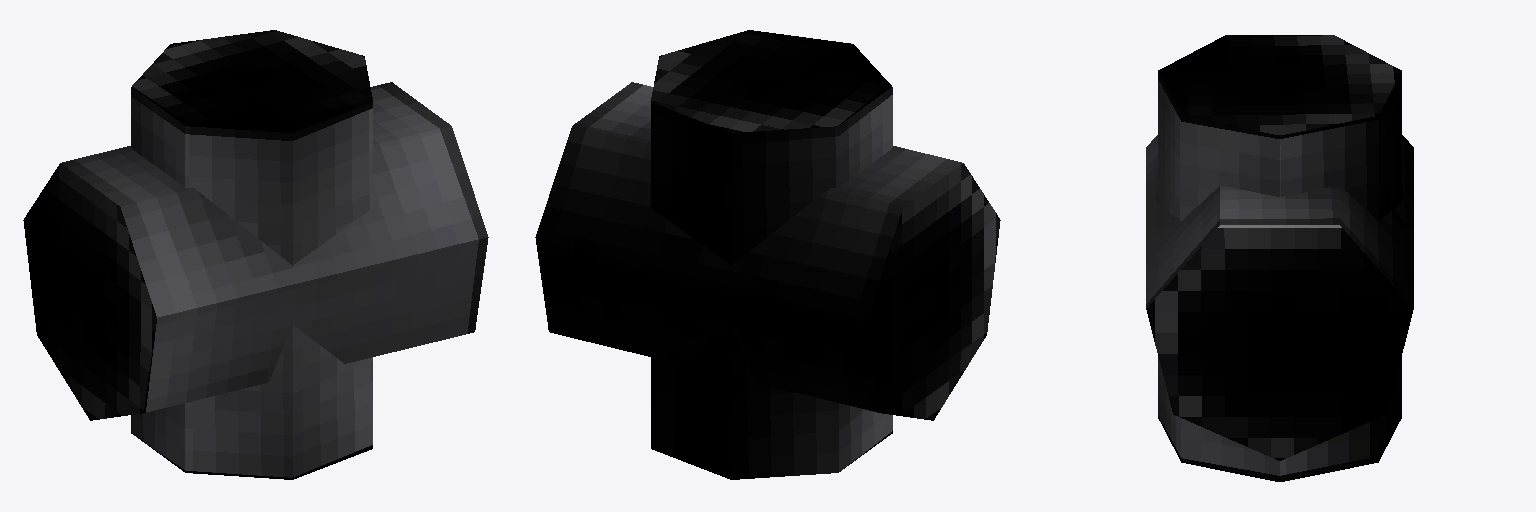
The picture shows the model from 3 angles: view 1: azimuth 30°, elevation 25°; view 2: azimuth 150°, elevation 25°; view 3: azimuth 270°, elevation 25°; orthographic projection.
Visible parts, largest first — view 1: l_talus; view 2: l_talus; view 3: l_talus.
Part boxes in pixels (left/top/right/bottom): l_talus: left=23, top=30, right=488, bottom=479; l_talus: left=535, top=30, right=1000, bottom=479; l_talus: left=1146, top=35, right=1413, bottom=481.
Size of the model in its own units: 0.0326 by 0.0326 by 0.0228.
Materials: 1 (1 with a texture image).